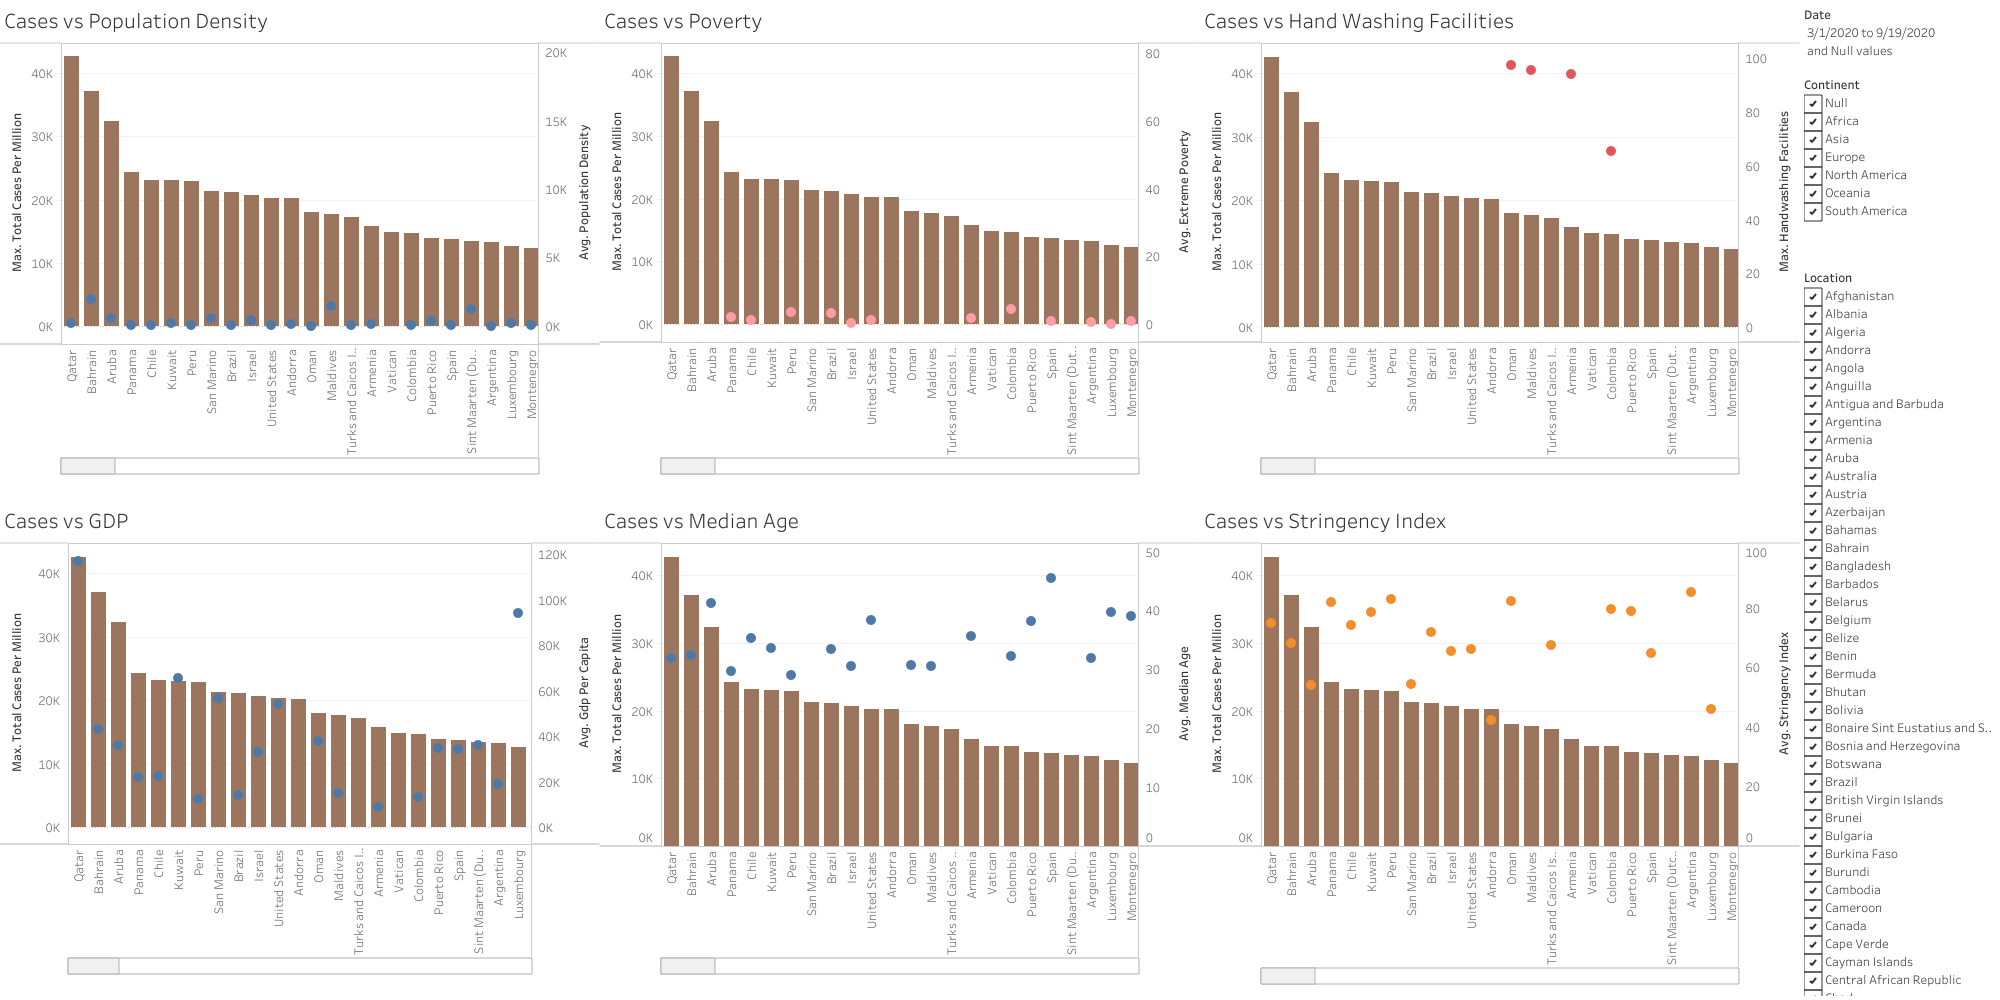

The dashboard page shown, as its layout file describes it:
{"tool":"tableau","page":{"name":"Cases vs Factors","canvas":[2000,1000],"ordinal":0},"visuals":[{"type":"worksheet","title":"Cases vs Population Density","mark":"Automatic","rows":["total_cases_per_million","population_density"],"cols":["location"],"box":[0,0,600,500]},{"type":"worksheet","title":"Cases vs Poverty","mark":"Automatic","rows":["total_cases_per_million","extreme_poverty"],"cols":["location"],"box":[600,0,600,500]},{"type":"worksheet","title":"Cases vs Hand Washing Facilities","mark":"Automatic","rows":["total_cases_per_million","handwashing_facilities"],"cols":["location"],"box":[1200,0,600,500]},{"type":"worksheet","param":"vert","box":[1800,0,200,1000]},{"type":"worksheet","title":"Cases vs Median Age","mark":"Bar","rows":["total_cases_per_million","median_age"],"cols":["location"],"param":"[federated.1jcq4qh1dy3hzo12v83hi0y6t4ag].[none:date:qk]","box":[1800,0,200,72]},{"type":"worksheet","title":"Cases vs GDP","mark":"Bar","rows":["total_cases_per_million","gdp_per_capita"],"cols":["location"],"param":"[federated.1jcq4qh1dy3hzo12v83hi0y6t4ag].[none:continent:nk]","box":[1800,72,200,211]},{"type":"worksheet","title":"Cases vs Median Age","mark":"Bar","rows":["total_cases_per_million","median_age"],"cols":["location"],"param":"[federated.1jcq4qh1dy3hzo12v83hi0y6t4ag].[none:location:nk]","box":[1800,283,200,717]},{"type":"worksheet","title":"Cases vs GDP","mark":"Bar","rows":["total_cases_per_million","gdp_per_capita"],"cols":["location"],"box":[0,500,600,500]},{"type":"worksheet","title":"Cases vs Median Age","mark":"Bar","rows":["total_cases_per_million","median_age"],"cols":["location"],"box":[600,500,600,500]},{"type":"worksheet","title":"Cases vs Stringency Index","mark":"Bar","rows":["total_cases_per_million","stringency_index"],"cols":["location"],"box":[1200,500,600,500]}]}

Visuals, with their boxes in screenshot pixels (x1, y1, x2, y2), scaled from the page's 2000x1000 canvas onto the 2000x1000 screenshot:
"Cases vs Population Density" worksheet: 0/0/600/500
"Cases vs Poverty" worksheet: 600/0/1200/500
"Cases vs Hand Washing Facilities" worksheet: 1200/0/1800/500
worksheet: 1800/0/1999/999
"Cases vs Median Age" worksheet (Bar marks): 1800/0/1999/72
"Cases vs GDP" worksheet (Bar marks): 1800/72/1999/283
"Cases vs Median Age" worksheet (Bar marks): 1800/283/1999/999
"Cases vs GDP" worksheet (Bar marks): 0/500/600/999
"Cases vs Median Age" worksheet (Bar marks): 600/500/1200/999
"Cases vs Stringency Index" worksheet (Bar marks): 1200/500/1800/999
